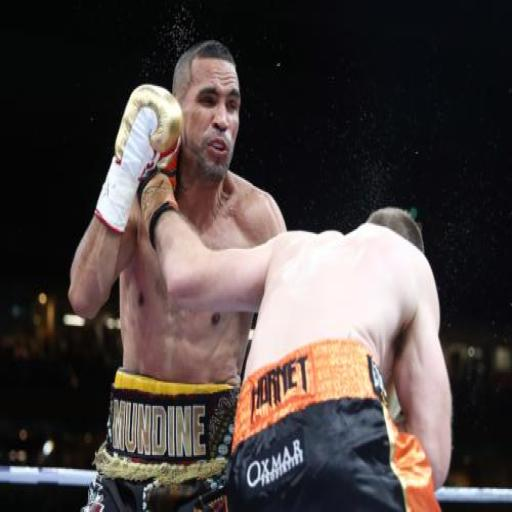boxing: (66, 40, 456, 510)
